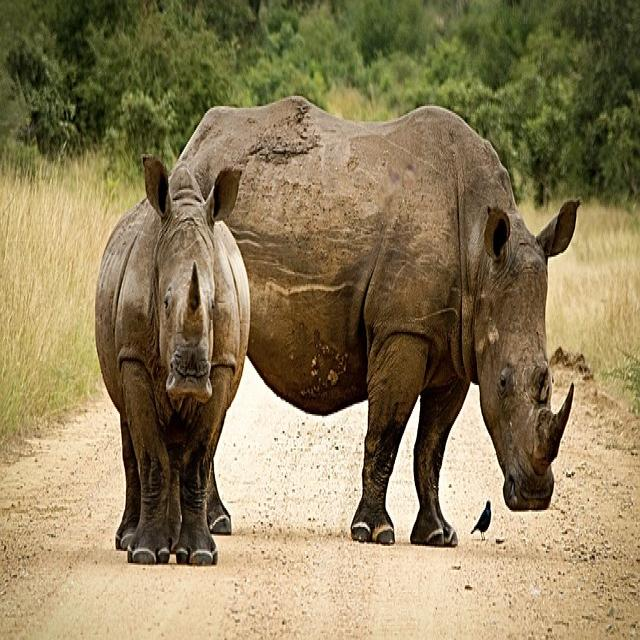Herbivorous: (160, 96, 579, 549), (94, 157, 253, 568)
